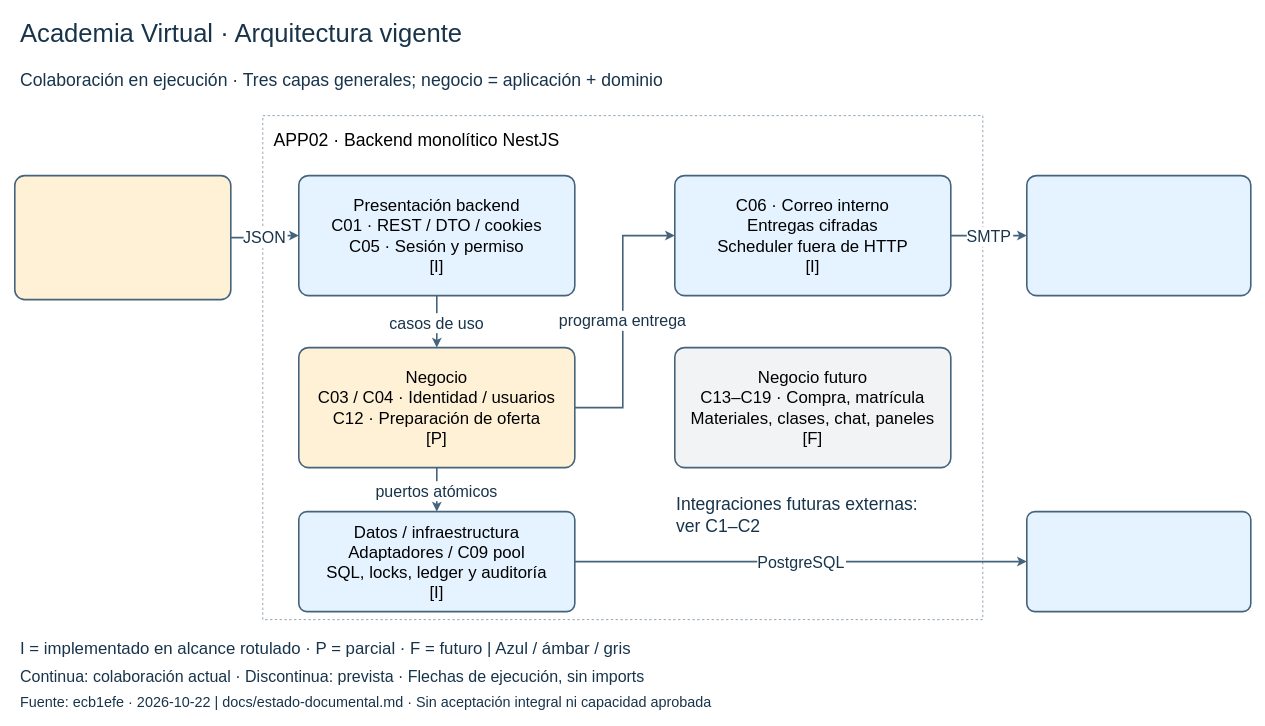
This 1265x726 diagram has some shape labels left out. Each missing label, with the centre of its shape:
AL01 · PostgreSQL Identidad + oferta [I]: pixel 1138 561
APP01 · Presentación web React / Vite Identidad + preparación ADMIN [P]: pixel 122 237
E03 · Mailpit Captura SMTP local [I]: pixel 1138 235
